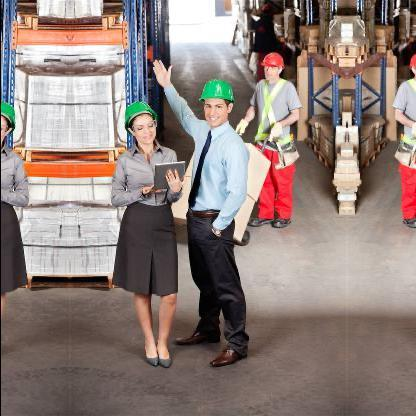Helmet: (119, 92, 158, 154), (197, 71, 234, 125), (256, 45, 286, 87), (0, 92, 17, 155), (403, 44, 413, 87)
